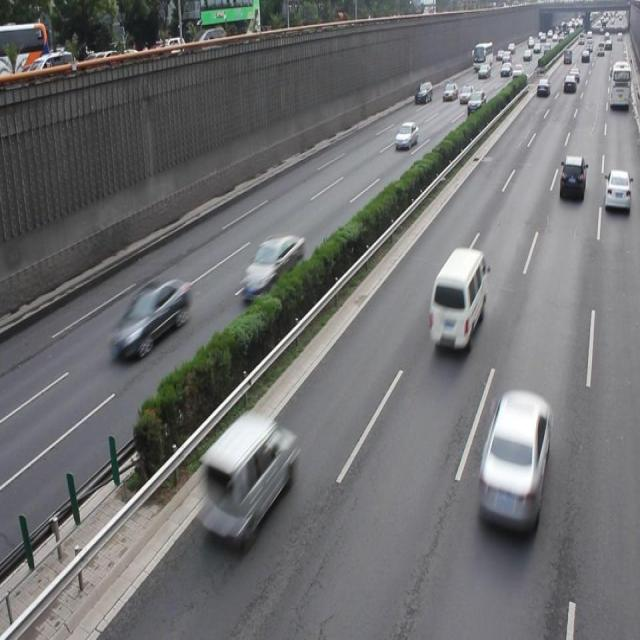car: (196, 414, 292, 546), (474, 390, 550, 538), (108, 277, 192, 359), (240, 234, 304, 302), (557, 154, 585, 204), (602, 169, 630, 213)
truck: (428, 247, 486, 350)
